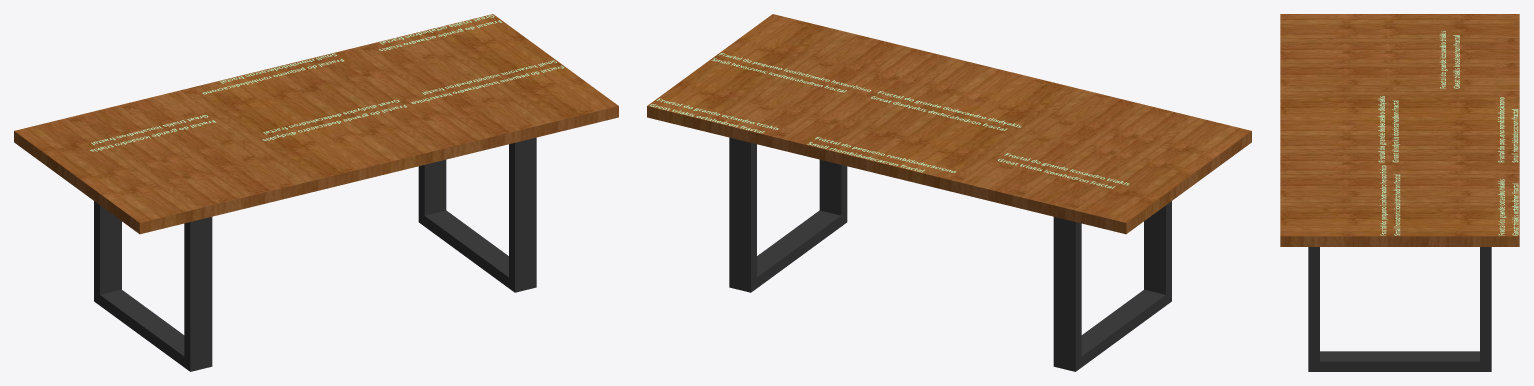
File: fractal_nonconvex5b.glb
The picture shows the model from 3 angles, left to right: view 1: azimuth 30°, elevation 25°; view 2: azimuth 150°, elevation 25°; view 3: azimuth 270°, elevation 25°; orthographic projection. The views are drawn at different scales.
Parts seen in each view (by area): view 1: object 1, Composant#1 (×2), Fractal do peque, Fractal do grand#1, Fractal do peque#1, Fractal do grand#2, Fractal do grand; view 2: object 1, Composant#1 (×2), Fractal do peque, Fractal do grand#1, Fractal do peque#1, Fractal do grand#2, Fractal do grand; view 3: object 1, Composant#1, Fractal do grand#1, Fractal do peque, Fractal do peque#1, Fractal do grand#2, Fractal do grand.
Boxes of the visible parts, x1=… form: object 1: x1=14, y1=14, x2=618, y2=234; Composant#1 (×2): x1=94, y1=137, x2=536, y2=371; Fractal do peque: x1=411, y1=60, x2=564, y2=103; Fractal do grand#1: x1=262, y1=100, x2=406, y2=140; Fractal do peque#1: x1=202, y1=53, x2=343, y2=94; Fractal do grand#2: x1=90, y1=115, x2=215, y2=151; Fractal do grand: x1=379, y1=15, x2=501, y2=50; object 1: x1=647, y1=14, x2=1251, y2=234; Composant#1 (×2): x1=729, y1=137, x2=1171, y2=371; Fractal do peque: x1=711, y1=53, x2=870, y2=92; Fractal do grand#1: x1=871, y1=91, x2=1021, y2=130; Fractal do peque#1: x1=807, y1=137, x2=955, y2=172; Fractal do grand#2: x1=998, y1=153, x2=1129, y2=188; Fractal do grand: x1=650, y1=98, x2=778, y2=133; object 1: x1=1280, y1=14, x2=1519, y2=246; Composant#1: x1=1308, y1=247, x2=1491, y2=371; Fractal do grand#1: x1=1378, y1=96, x2=1399, y2=162; Fractal do peque: x1=1380, y1=165, x2=1400, y2=235; Fractal do peque#1: x1=1498, y1=97, x2=1518, y2=162; Fractal do grand#2: x1=1439, y1=31, x2=1459, y2=88; Fractal do grand: x1=1498, y1=179, x2=1518, y2=235.
Size of the model in its own units: 2.2 by 0.771 by 1.
Materials: 3 (1 with a texture image).
